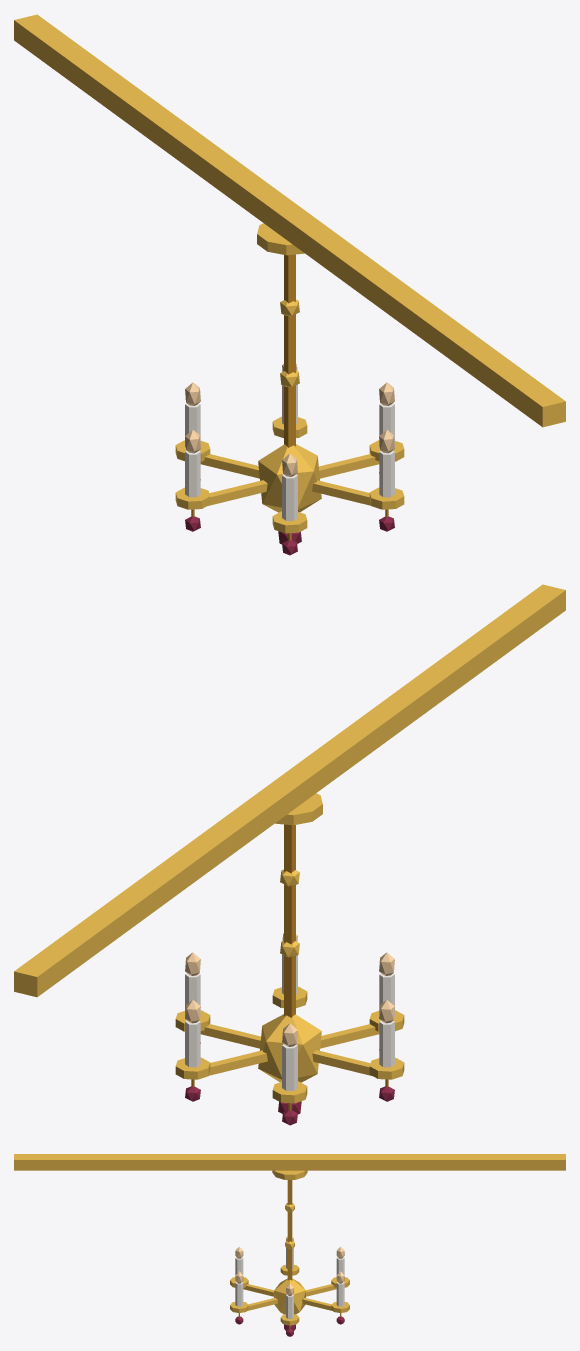
File: CatCafe_Plot_ThemeGrandChandelier_52x40.glb
The picture shows the model from 3 angles, top to bottom: view 1: azimuth 30°, elevation 25°; view 2: azimuth 150°, elevation 25°; view 3: azimuth 270°, elevation 25°; orthographic projection. The views are drawn at different scales.
Parts seen in each view (by area): view 1: CatCafe_Plot_ThemeGrandChandelier_52x40, CatCafe_Plot_ThemeGrandChandelier_52x40_Glow; view 2: CatCafe_Plot_ThemeGrandChandelier_52x40, CatCafe_Plot_ThemeGrandChandelier_52x40_Glow; view 3: CatCafe_Plot_ThemeGrandChandelier_52x40, CatCafe_Plot_ThemeGrandChandelier_52x40_Glow.
Part boxes in pixels (<box>): CatCafe_Plot_ThemeGrandChandelier_52x40: <box>14,14,565,555</box>; CatCafe_Plot_ThemeGrandChandelier_52x40_Glow: <box>185,363,394,476</box>; CatCafe_Plot_ThemeGrandChandelier_52x40: <box>14,584,565,1125</box>; CatCafe_Plot_ThemeGrandChandelier_52x40_Glow: <box>185,933,394,1046</box>; CatCafe_Plot_ThemeGrandChandelier_52x40: <box>14,1154,565,1336</box>; CatCafe_Plot_ThemeGrandChandelier_52x40_Glow: <box>235,1237,344,1295</box>.
Size of the model in its own units: 2.32 by 3.32 by 9.44.
Materials: 1 (1 with a texture image).
